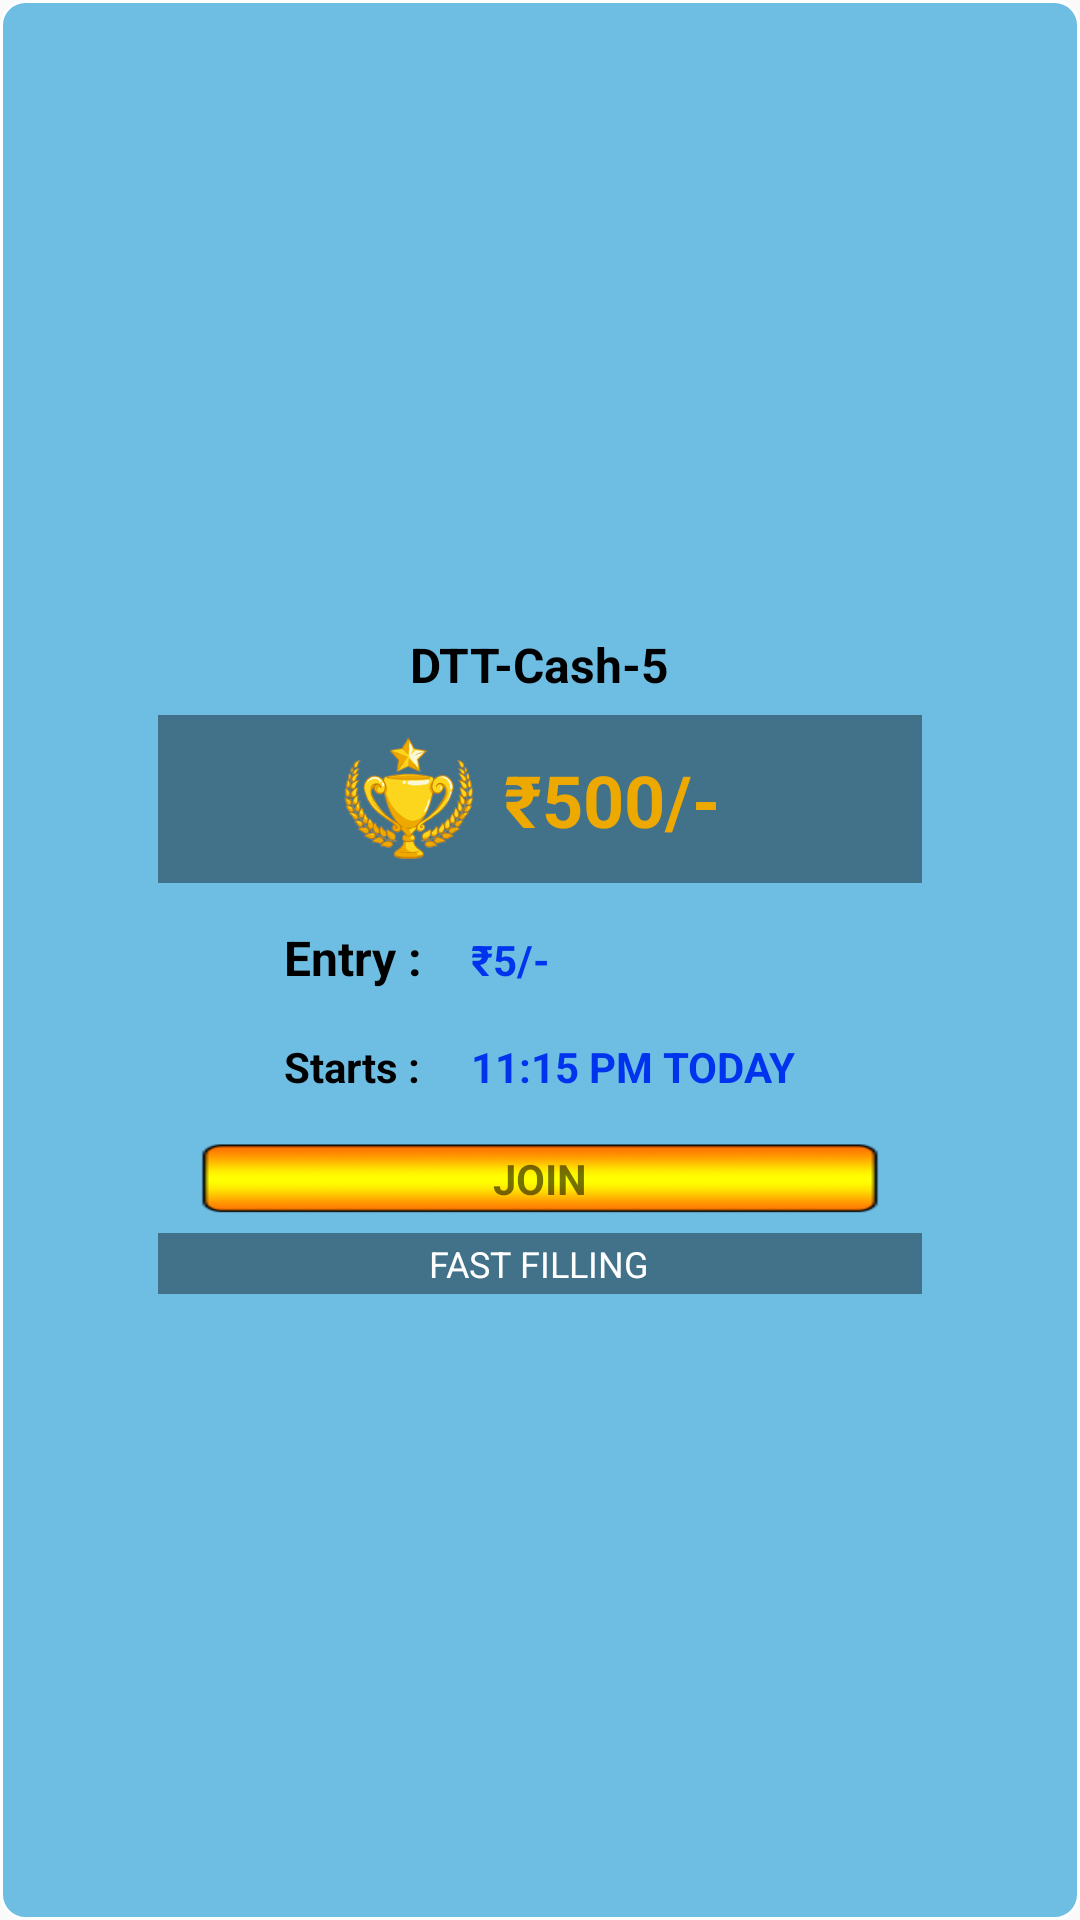

Named icons in this screenshot (1080x1920) and their bounding boxes, [x1=x1, y1=y1, x2=x2, y2=y2]:
trophy: [x1=344, y1=737, x2=473, y2=859]
